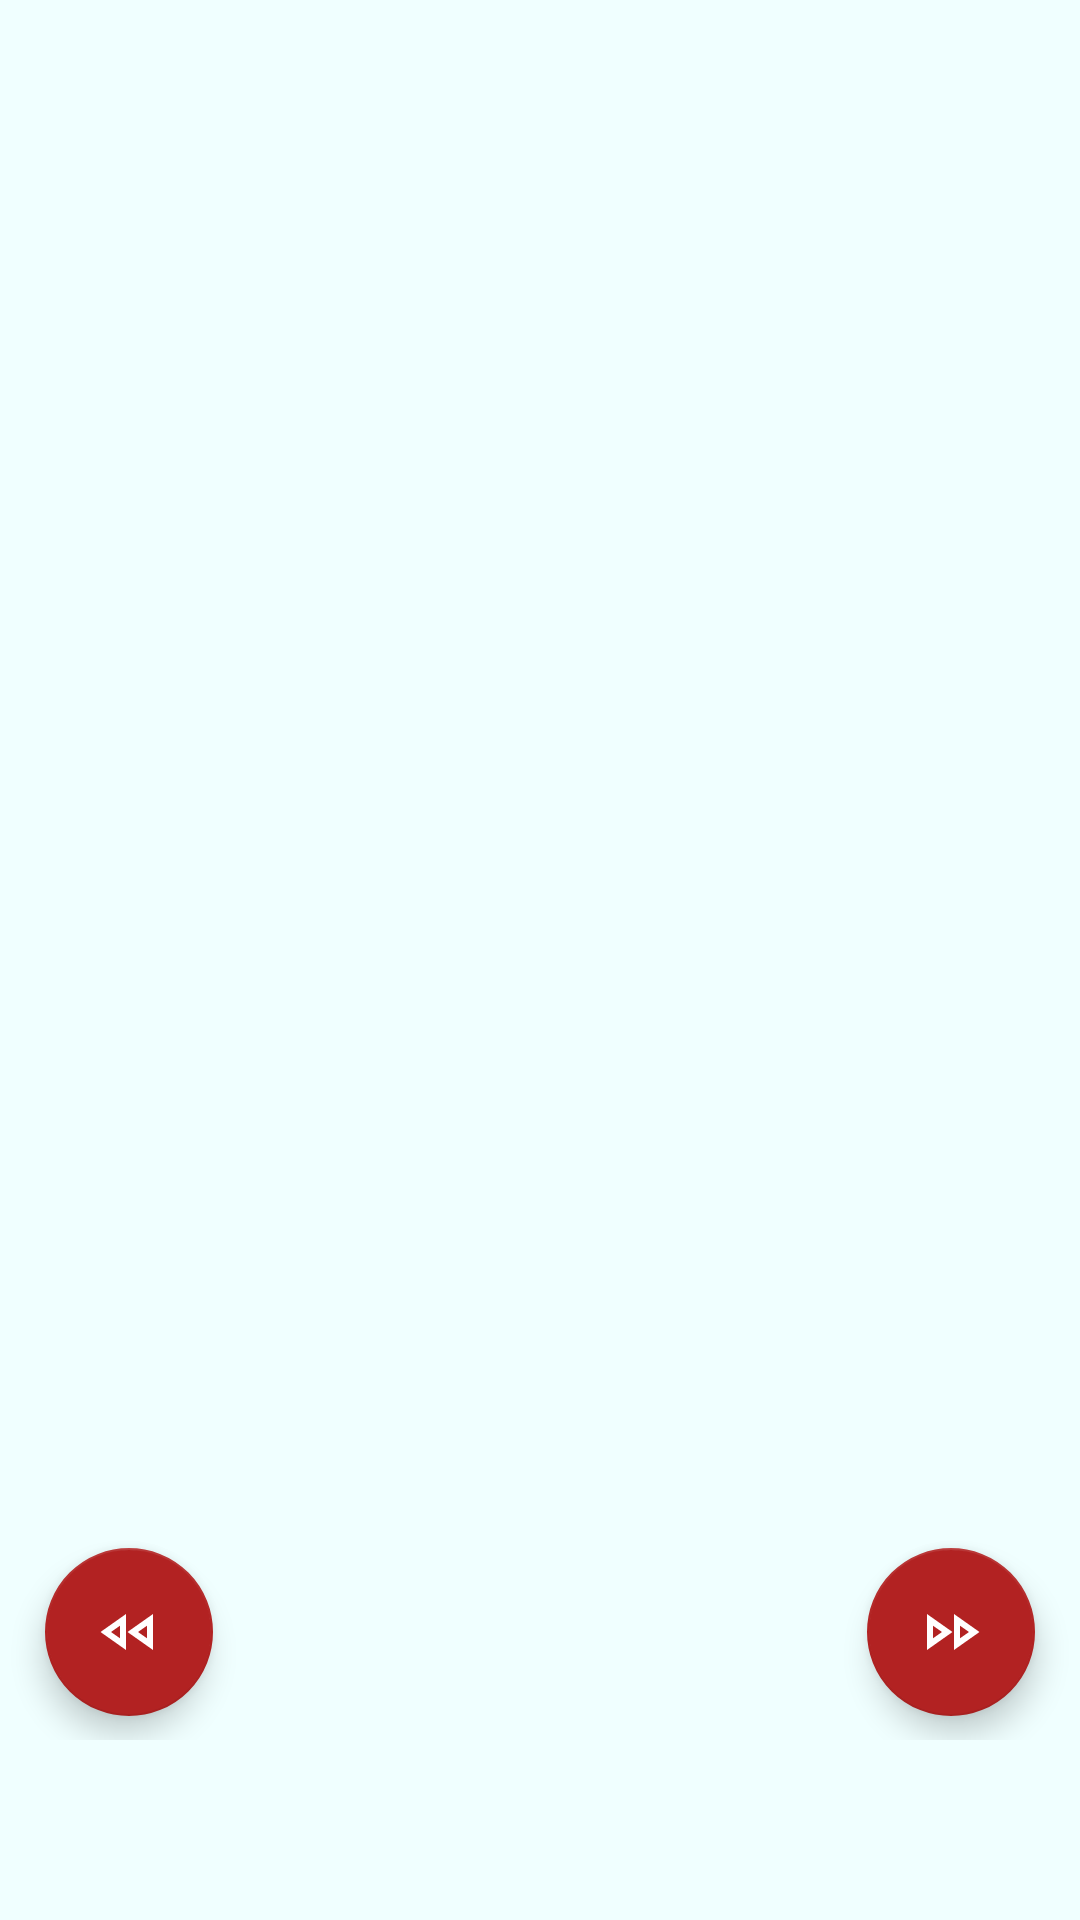

Point at icon controls on the screen. Image size 1080 × 1920, points as point (x, y).
next: point (951, 1632)
previous: point (129, 1632)
